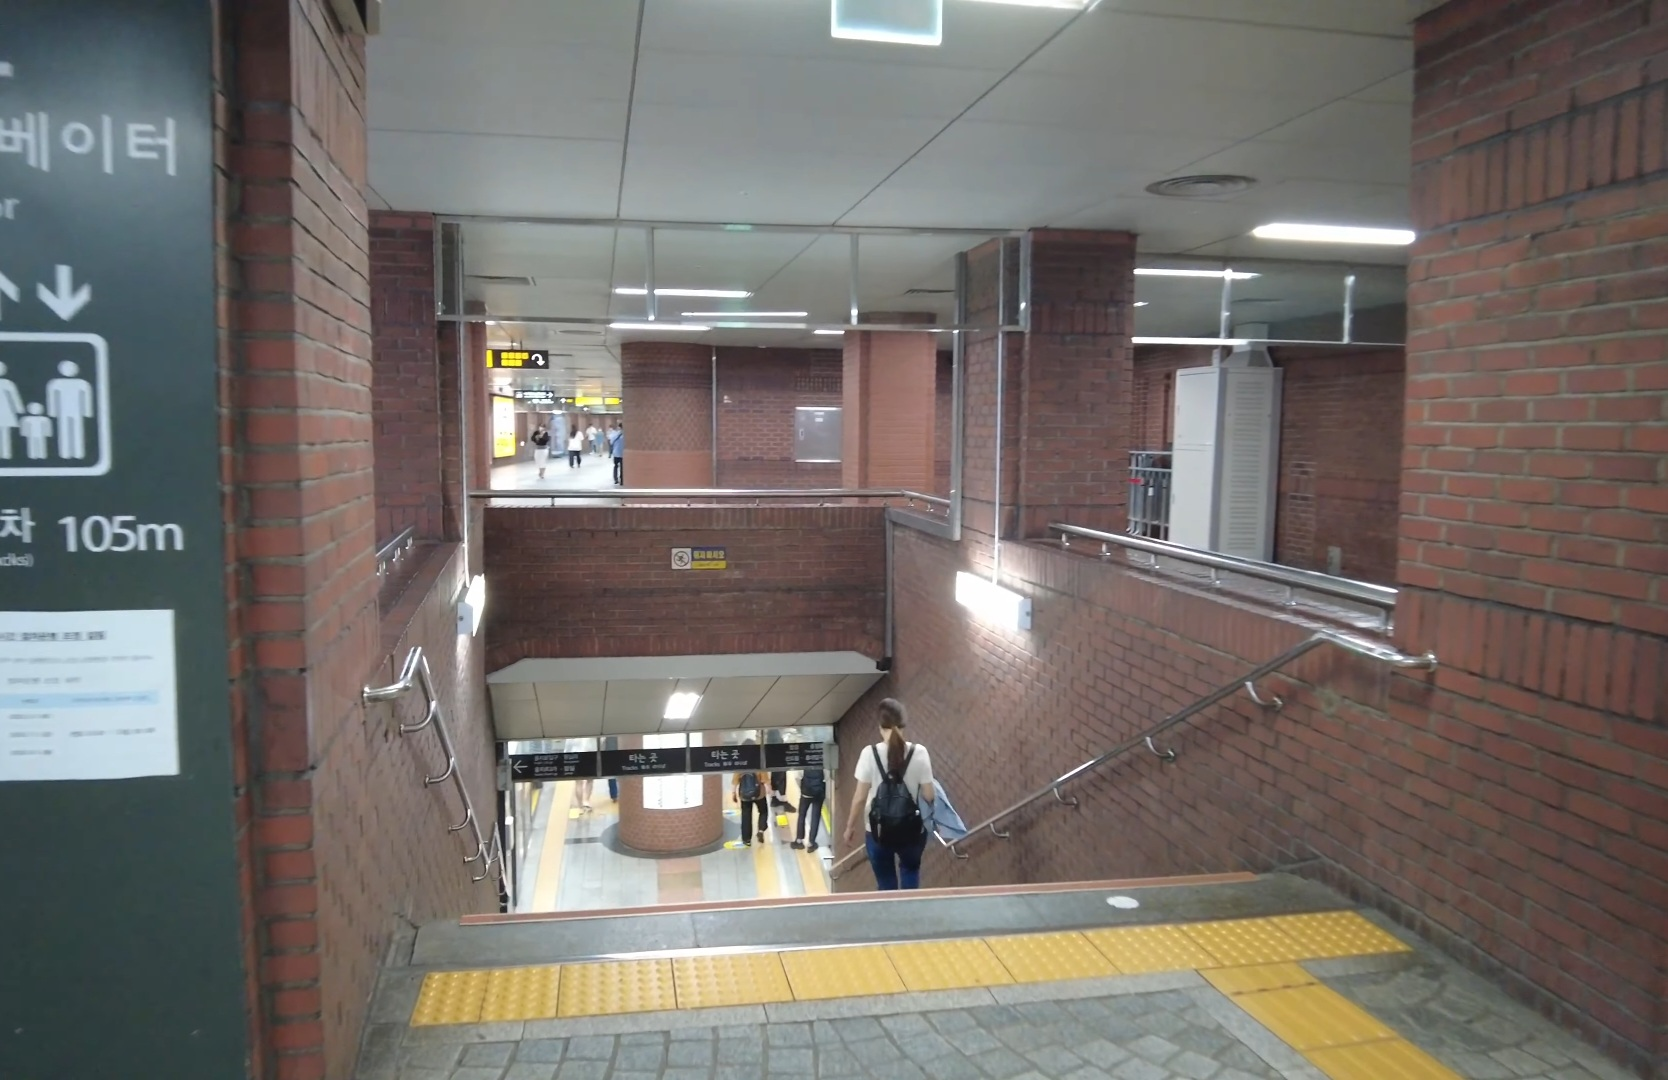guideBlock: (1247, 978, 1359, 1061)
warningBlock: (900, 936, 1015, 988), (781, 947, 900, 990), (1298, 909, 1391, 963), (567, 971, 680, 1014), (1199, 919, 1304, 966), (674, 961, 783, 1005), (1106, 933, 1213, 975), (405, 971, 488, 1024), (994, 940, 1105, 978), (490, 971, 552, 1009)
